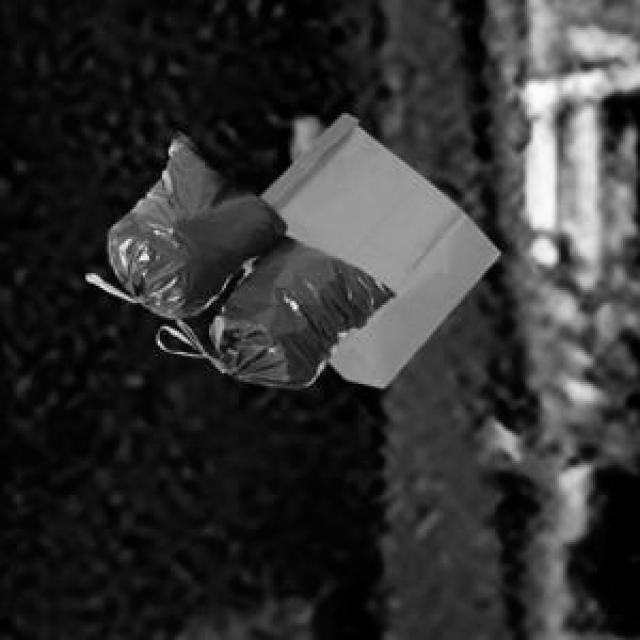miscellaneous trash: (83, 128, 390, 384)
paper: (256, 109, 495, 384)
